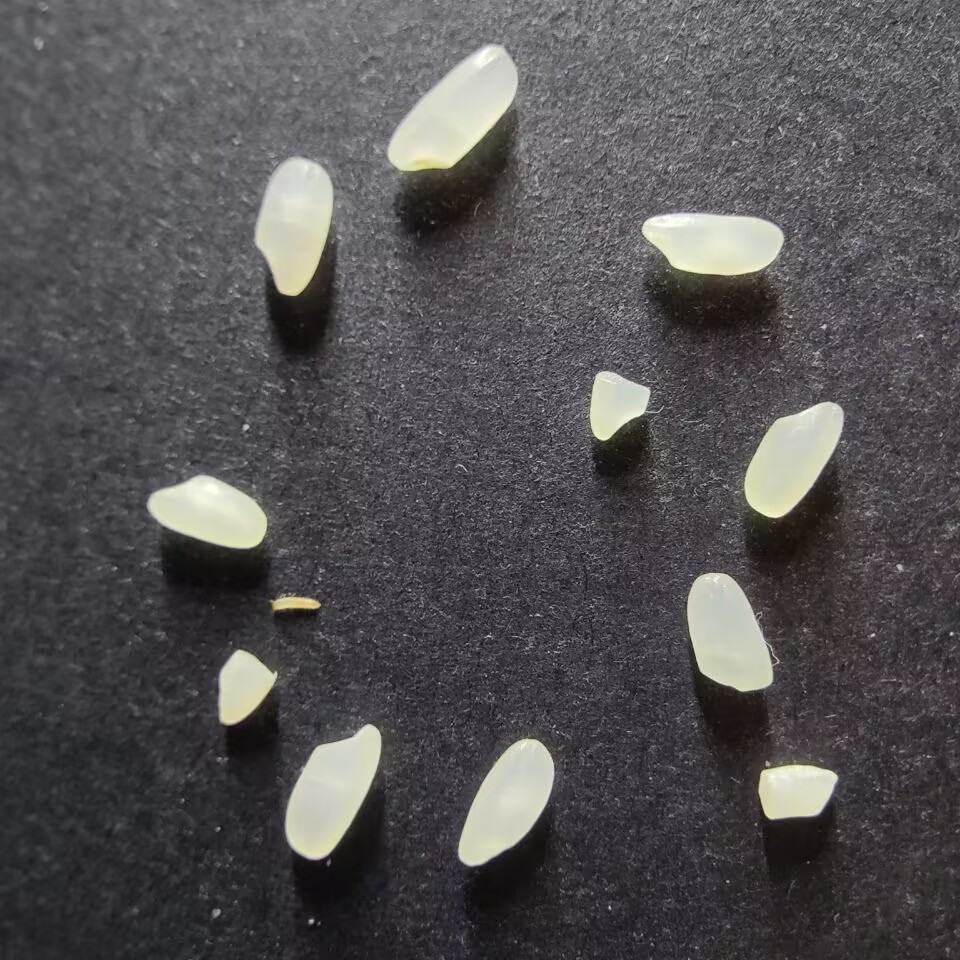broken: (216, 649, 277, 726), (588, 368, 652, 440), (757, 764, 837, 820)
others: (269, 592, 321, 613)
rice: (386, 44, 518, 172), (283, 723, 381, 860), (458, 739, 556, 866), (743, 400, 844, 518), (253, 157, 334, 296), (685, 572, 773, 692), (640, 212, 785, 275), (147, 474, 266, 550)
